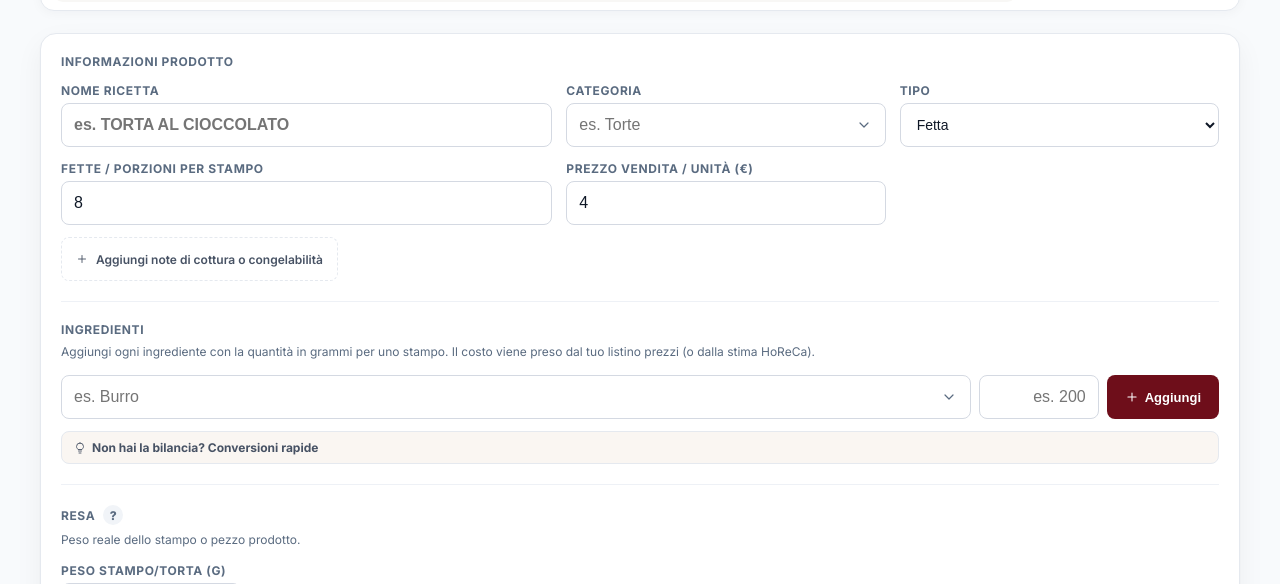
Test: Nuova Ricetta - onesta del verdetto › con le fette a zero non mostra un prezzo minimo di 0,00 €
The width and height of the screenshot is (1280, 584).
Type "burro" into the dropdown named "nome ingrediente da aggiungere". click: (516, 397)
box: left=61, top=375, right=971, bottom=419
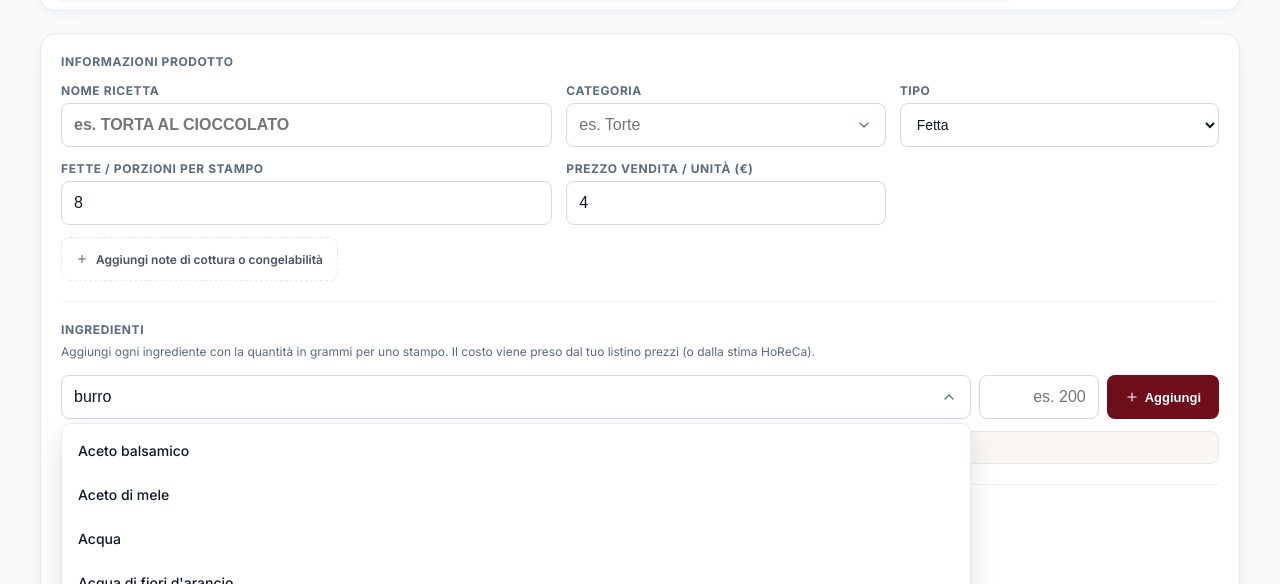
Type "250" into the field named "grammi di ingrediente da aggiungere". click: (1039, 397)
box: left=979, top=375, right=1099, bottom=419
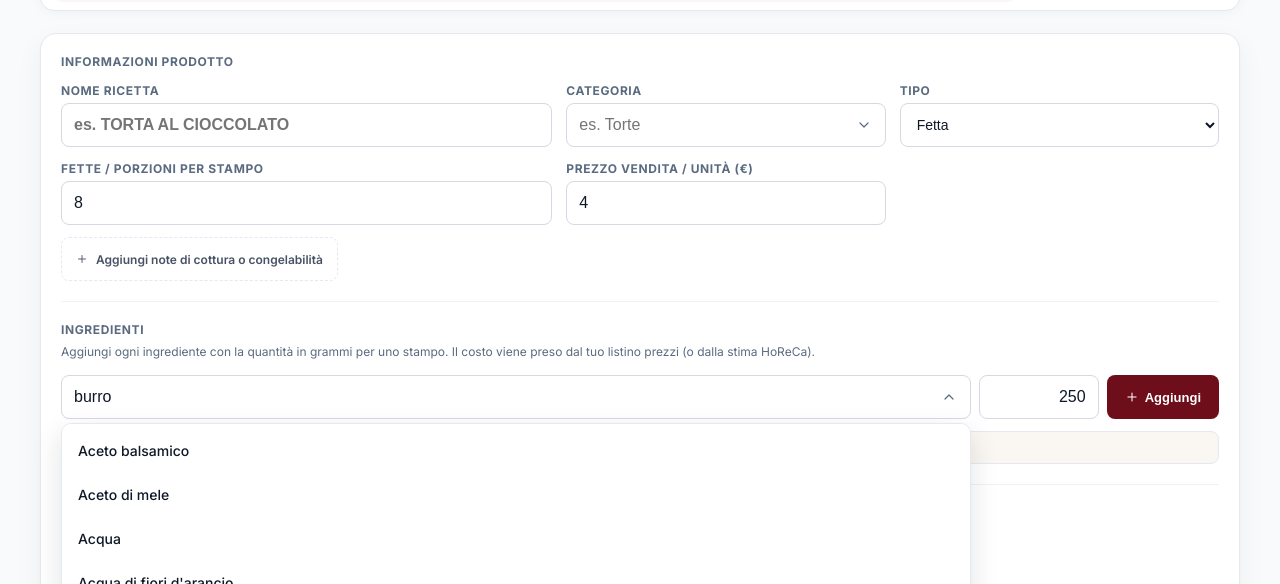
Click the button with aria-label "Aggiungi ingrediente alla ricetta". click: (1163, 397)
box: left=1107, top=375, right=1219, bottom=419
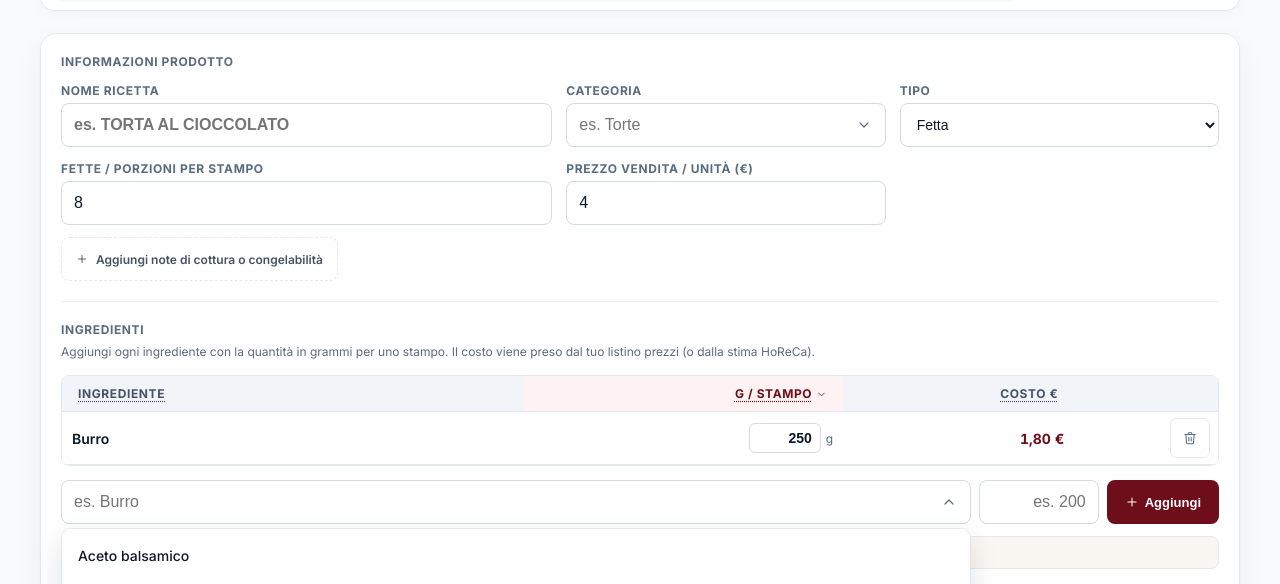
Clear the number field named "fette o porzioni per stampo". click: (307, 203)
box: left=61, top=181, right=552, bottom=225
(page scrolled)
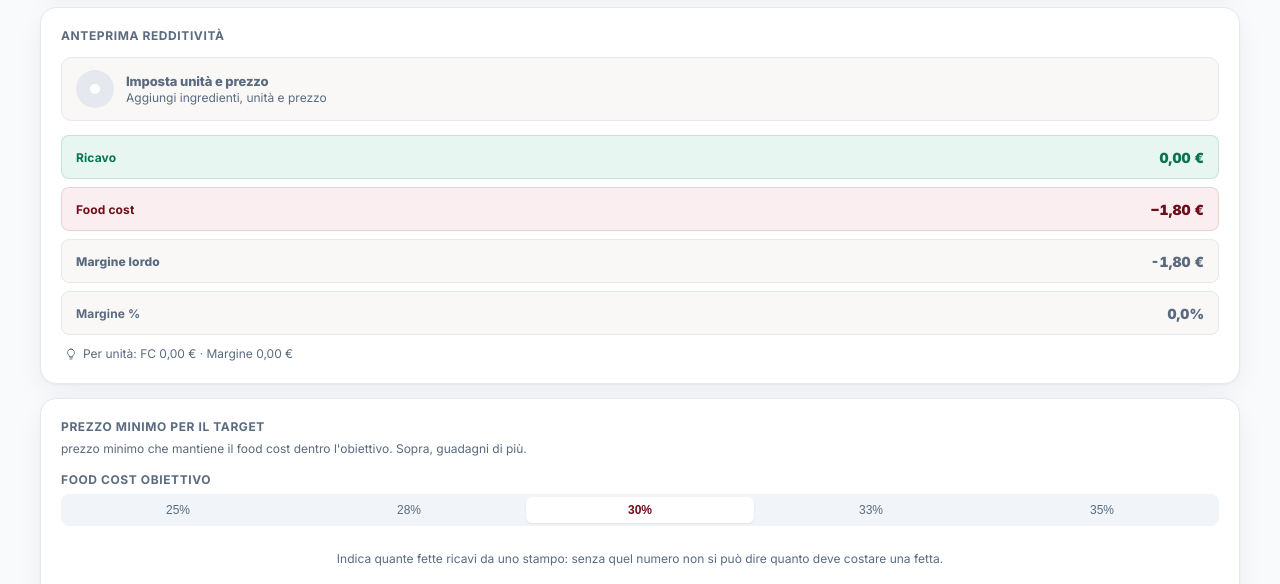
Expected: the text "senza quel numero non si può dire" is shown, left=477, top=551, right=890, bottom=566
